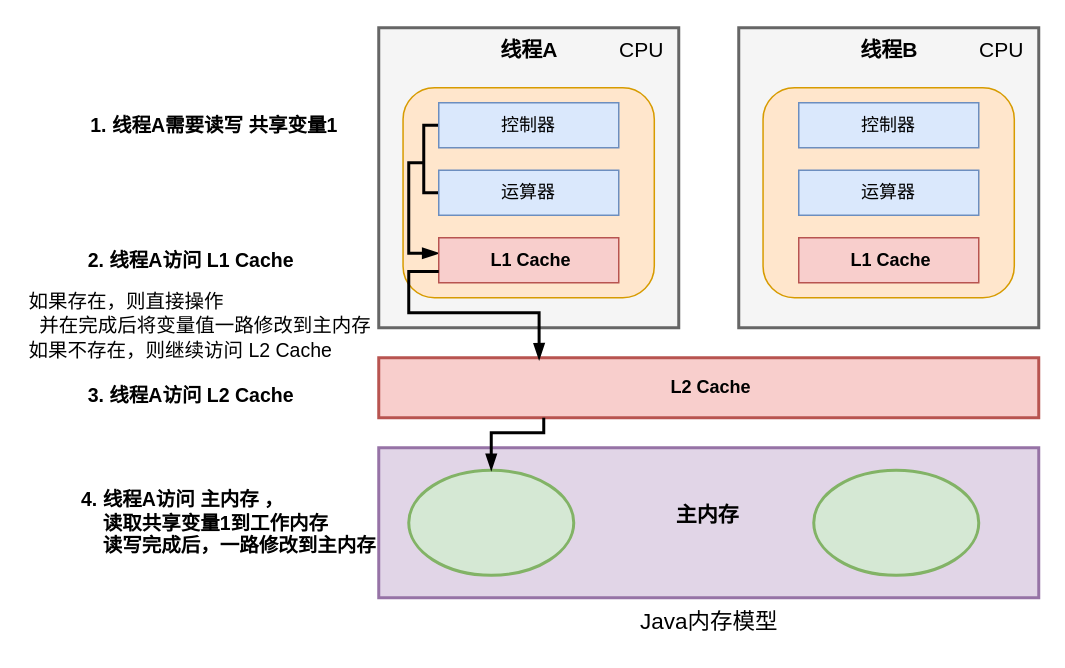
This 1065x668 diagram has some shape labels left out. Each missing label, with the centre of its shape:
"共享变量1" belongs at point (490, 522).
"共享变量2" belongs at point (896, 522).
